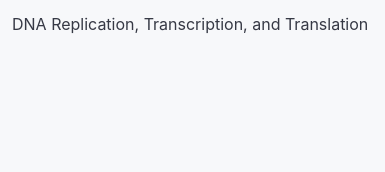
TruncatedTextTooltip › dismisses tooltip on pointerdown, scroll, and Escape
Later steps or results of the test are not shown.
Hover over the text with test id "trunc" at (190,24), box left=12, top=14, right=368, bottom=34
Wait 200 ms
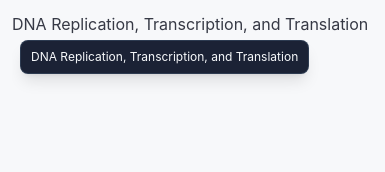
Expected: the tooltip "DNA Replication, Transcription, and Translation" is shown, left=20, top=40, right=309, bottom=74
Press Escape
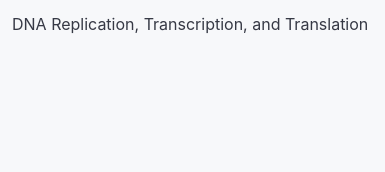
Hover over the text with test id "trunc" at (190,24), box left=12, top=14, right=368, bottom=34
Wait 200 ms
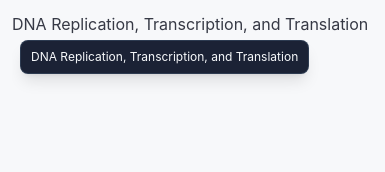
Expected: the tooltip "DNA Replication, Transcription, and Translation" is shown, left=20, top=40, right=309, bottom=74
